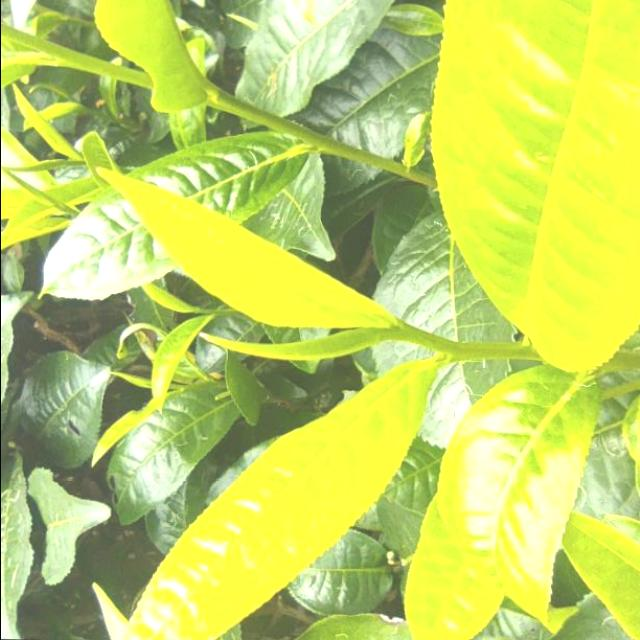Stem: (393, 326, 410, 341)
